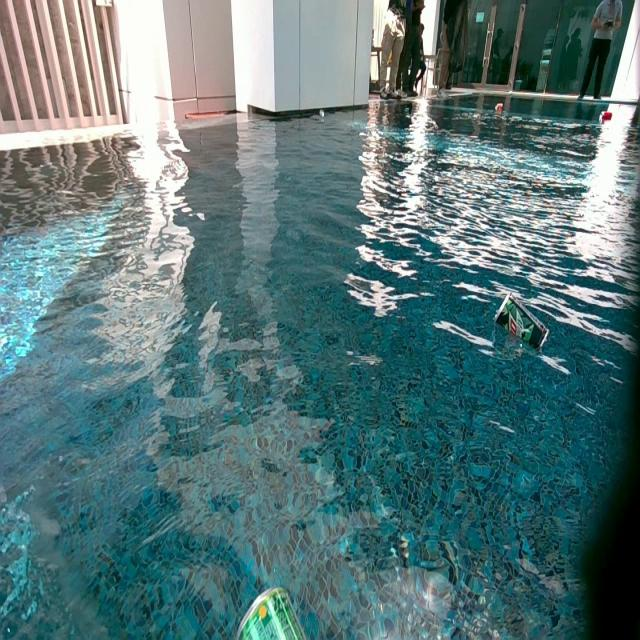Cans: (230, 585, 318, 637), (490, 293, 550, 354), (600, 110, 612, 121), (496, 103, 504, 112), (320, 110, 325, 118)
